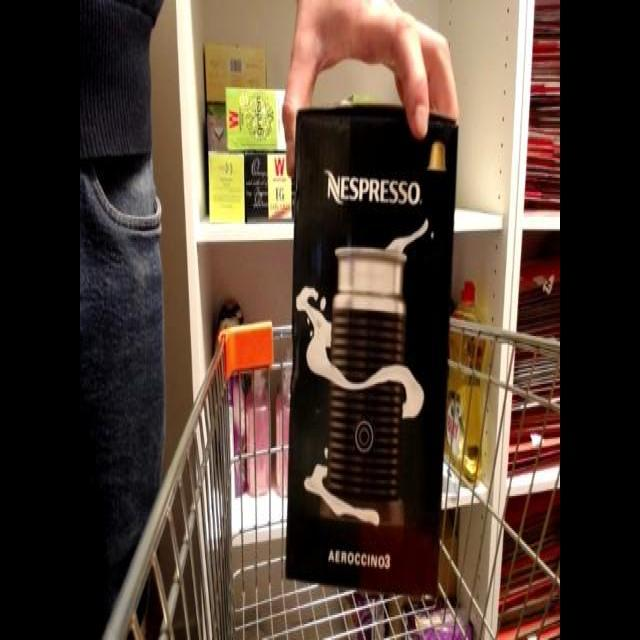Nespresso: (252, 95, 480, 600)
